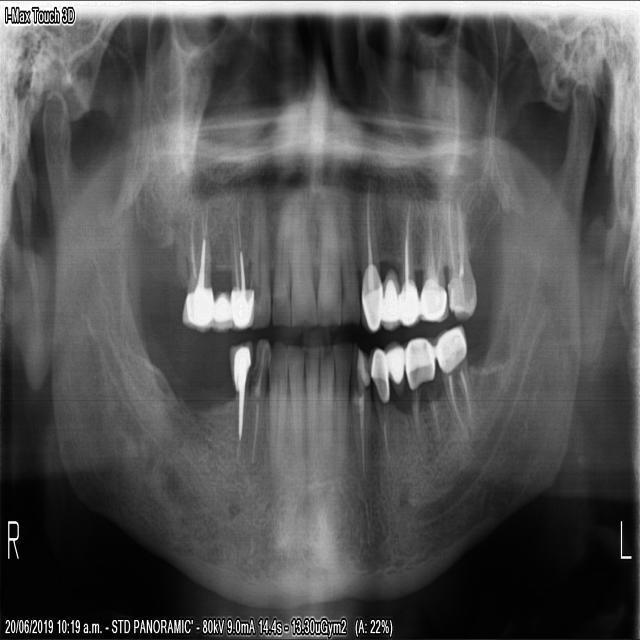LCD: (349, 339, 370, 482)
LCU: (355, 175, 383, 336)
LID: (332, 338, 351, 475), (318, 341, 333, 477)
LIU: (315, 186, 341, 330), (339, 184, 360, 327)
LMD: (403, 332, 444, 463), (432, 324, 477, 443)
LMU: (445, 191, 477, 323), (419, 193, 448, 323)
LPMD: (367, 340, 391, 467)
LPMU: (396, 192, 419, 330)
RCD: (266, 338, 286, 479)
RCU: (246, 182, 268, 332)
RID: (284, 340, 304, 475), (303, 342, 318, 466)
RIU: (288, 186, 315, 328), (268, 186, 292, 327)
RMU: (179, 188, 208, 337)
RPMD: (227, 336, 252, 474)
RPMU: (208, 183, 229, 336), (226, 182, 247, 333)
